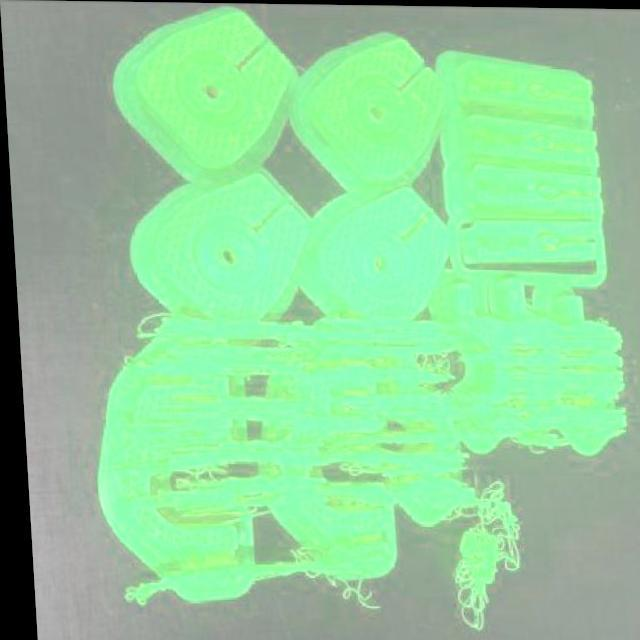spaghetti: (99, 302, 640, 640), (438, 472, 524, 634)
